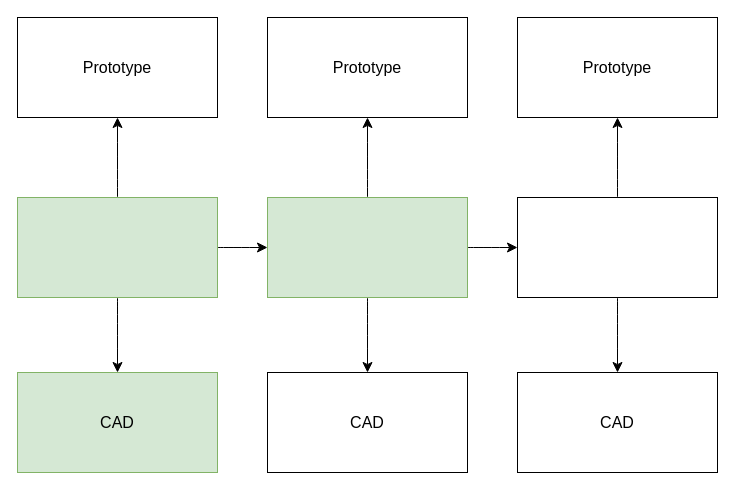
Some shapes in this 735 by 490 pixel diagram are drawn without their labels. Each missing label, with the box of its shape:
Design Frame: (16, 196, 218, 298)
Design pickup mechanism: (266, 196, 468, 298)
Design Shooting Mechanism: (516, 196, 718, 298)
